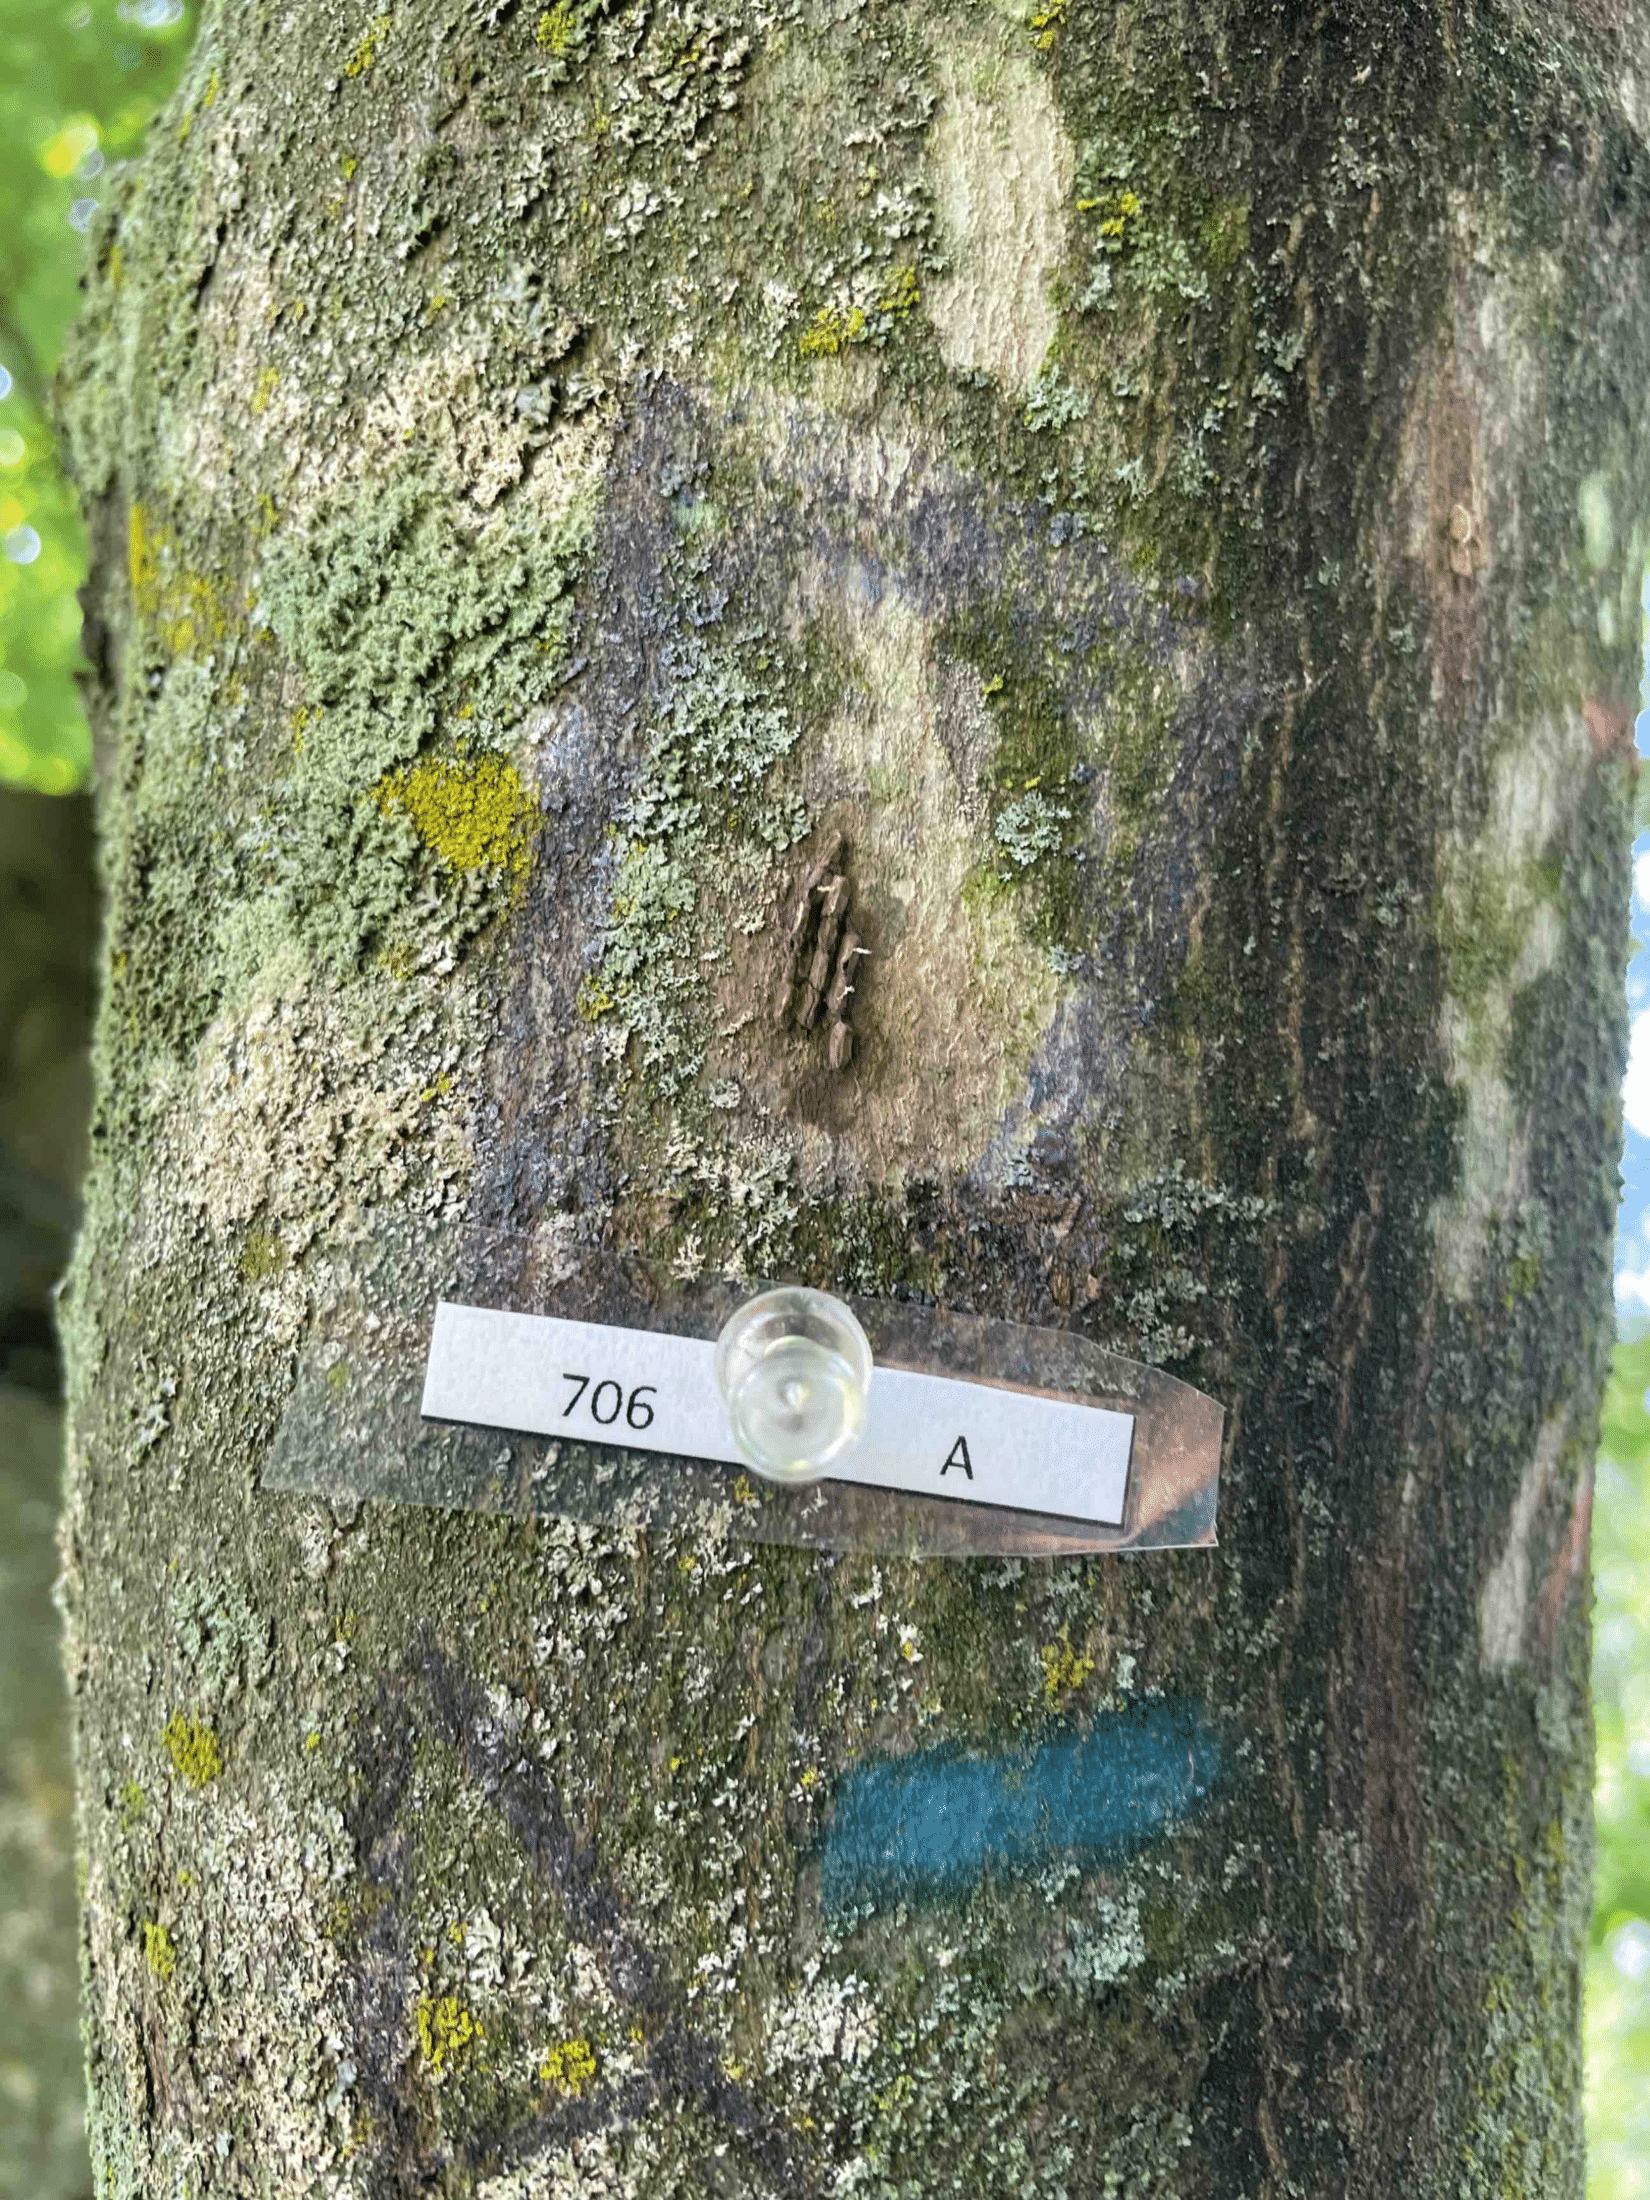egg masses: (718, 766, 901, 1143)
